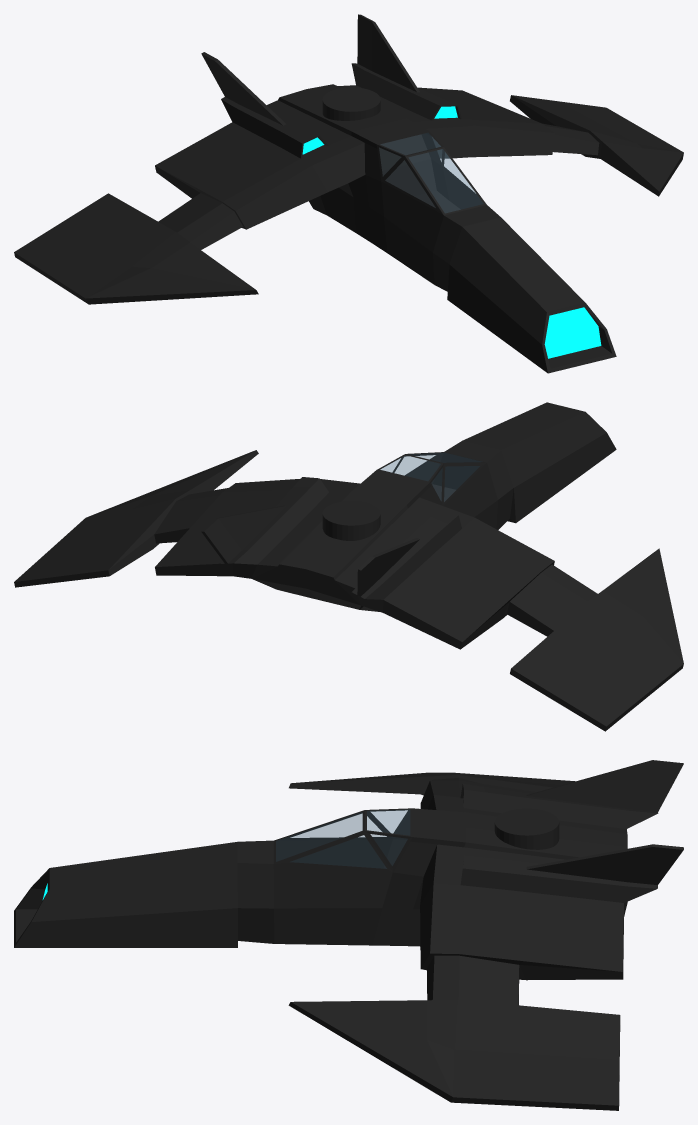
Rendered from Darkzov.fbx.
3 renders of one model, top to bottom at view 1: azimuth 30°, elevation 25°; view 2: azimuth 150°, elevation 25°; view 3: azimuth 270°, elevation 25°, orthographic. The views are drawn at different scales.
Visible parts, largest first — view 1: Darkzov; view 2: Darkzov; view 3: Darkzov.
Boxes of the visible parts, x1,y1,x2,y2 form: Darkzov: (14, 14, 683, 373); Darkzov: (14, 402, 683, 731); Darkzov: (14, 760, 683, 1110).
Bounding box in the file's own units: 1178 × 1028 × 251.
